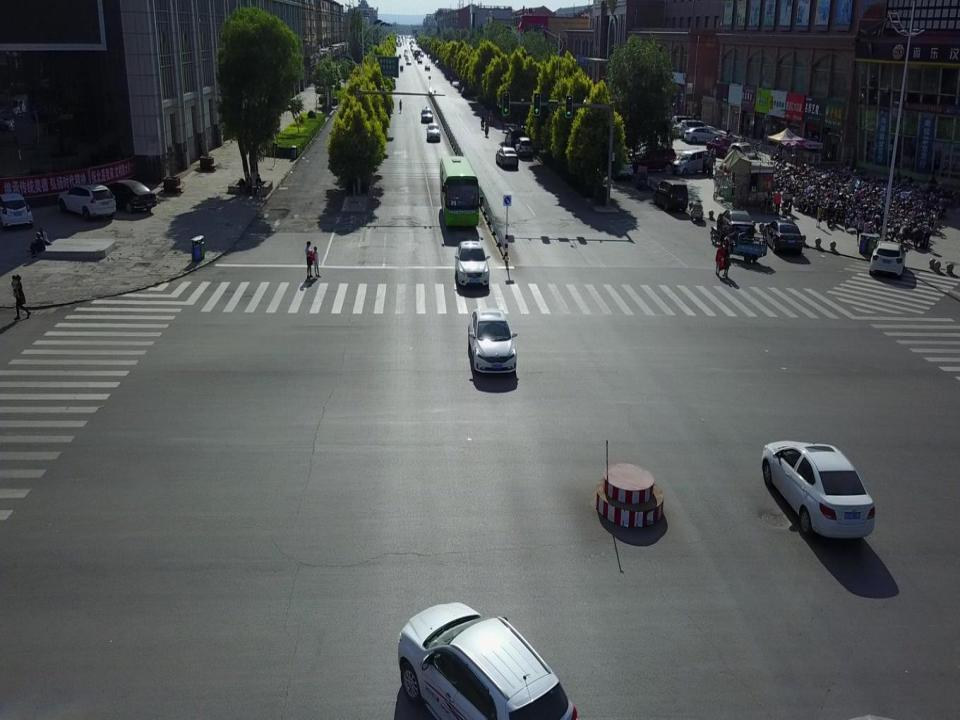bus: (439, 156, 479, 227)
car: (399, 601, 581, 720), (762, 441, 874, 538), (469, 308, 516, 372), (58, 182, 115, 218), (103, 177, 156, 214), (455, 240, 489, 286), (763, 219, 803, 253), (0, 190, 34, 227), (870, 241, 906, 275), (718, 210, 755, 238), (630, 150, 677, 168), (630, 145, 672, 162), (707, 136, 737, 157), (678, 120, 716, 136), (611, 153, 633, 180), (630, 136, 671, 150), (727, 141, 757, 160), (684, 127, 721, 142), (666, 113, 697, 128), (497, 146, 518, 166), (427, 121, 441, 141), (461, 85, 475, 99), (421, 109, 433, 122), (435, 57, 442, 68), (417, 57, 422, 64), (406, 58, 411, 65), (425, 65, 430, 71), (420, 52, 424, 56)
van: (654, 179, 688, 212), (674, 149, 712, 173), (506, 126, 527, 151), (515, 136, 534, 157)
